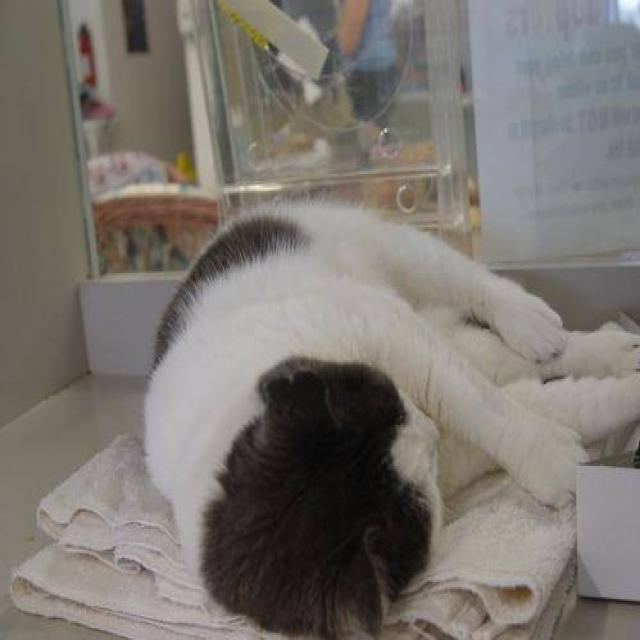Kucing: (73, 92, 640, 637)
